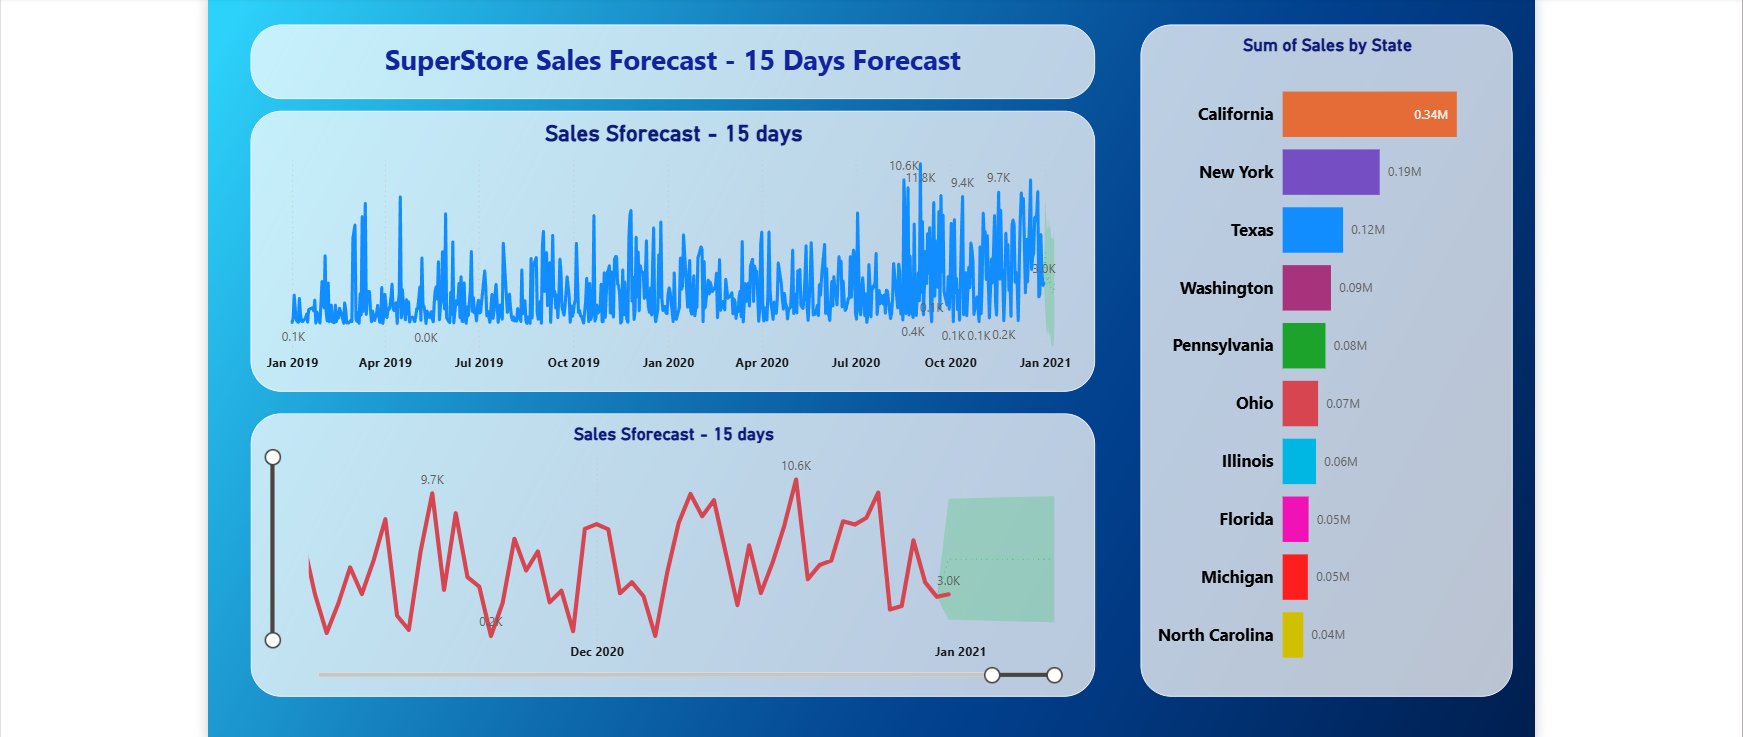

What the dashboard file says about the page in this screenshot:
{"tool":"powerbi","page":{"name":"Page 2","canvas":[1280,720],"ordinal":1},"visuals":[{"type":"lineChart","title":"Sales Sforecast - 15 days","fields":{"Y":["Sum(SuperStore_Sales_Dataset (2).Sales)"],"Category":["SuperStore_Sales_Dataset (2).Order Date"]},"box":[41,109.8,815.6,271.4],"z":0},{"type":"lineChart","title":"Sales Sforecast - 15 days","fields":{"Y":["Sum(SuperStore_Sales_Dataset (2).Sales)"],"Category":["SuperStore_Sales_Dataset (2).Order Date"]},"box":[41,401.7,815.6,273.9],"z":1000},{"type":"barChart","fields":{"Category":["SuperStore_Sales_Dataset (2).State"],"Y":["Sum(SuperStore_Sales_Dataset (2).Sales)"]},"box":[900,26.5,359.5,649.1],"z":2000},{"type":"textbox","box":[41,26.5,815.6,72.4],"z":3000}]}

Visuals, with their boxes in screenshot pixels (x1, y1, x2, y2):
"Sales Sforecast - 15 days" lineChart: x1=238, y1=106, x2=1090, y2=389
"Sales Sforecast - 15 days" lineChart: x1=238, y1=410, x2=1090, y2=696
barChart - SuperStore_Sales_Dataset (2).State x Sum(SuperStore_Sales_Dataset (2).Sales): x1=1135, y1=19, x2=1510, y2=696
textbox: x1=238, y1=19, x2=1090, y2=94
